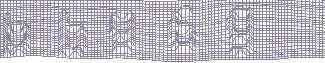6: (166, 4, 200, 55)
9: (106, 9, 139, 55)
b: (56, 8, 89, 59), (2, 10, 33, 59)
g: (225, 6, 256, 57)
